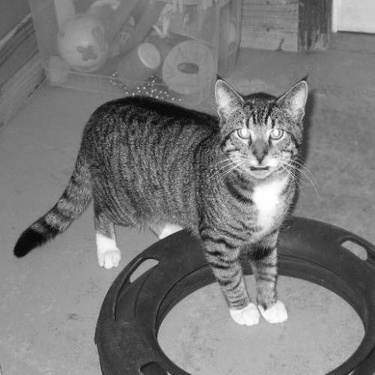cat: (10, 77, 310, 326)
